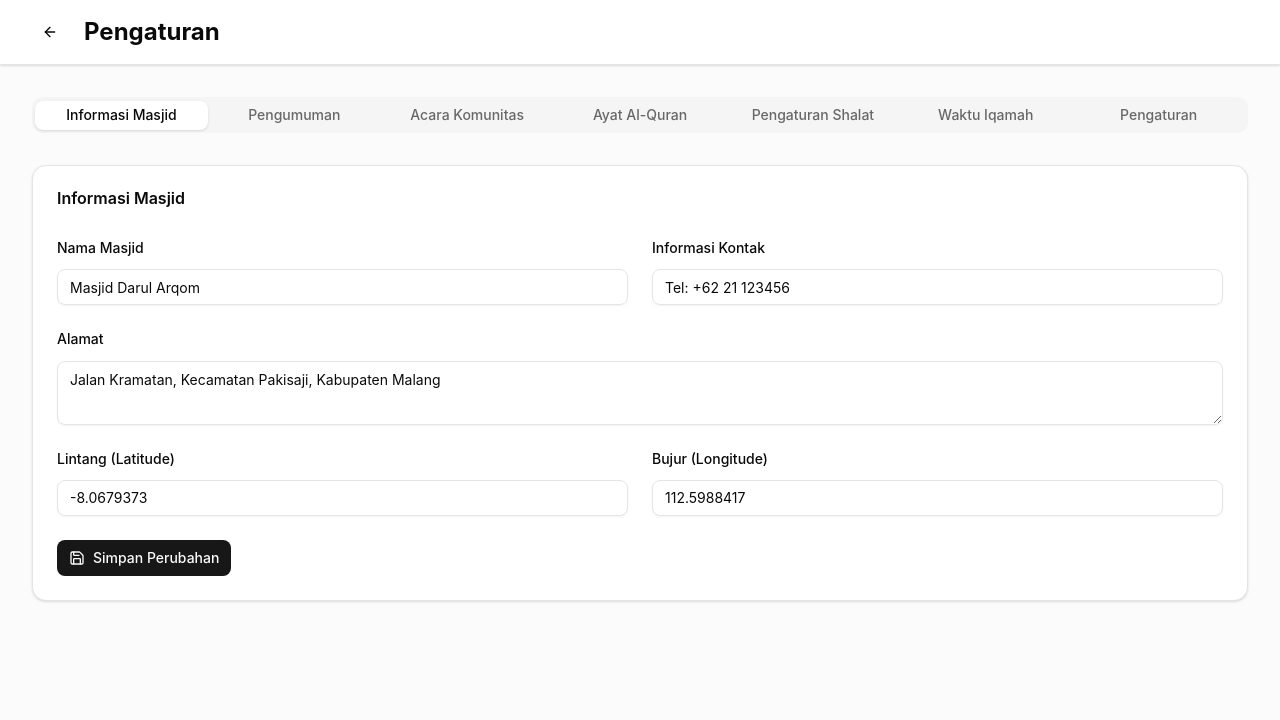
Test case: AdminPanel › switches tabs with accessible tab controls
The width and height of the screenshot is (1280, 720).
Click the tab "Pengaturan Shalat": (813, 115) [726,100,899,130]
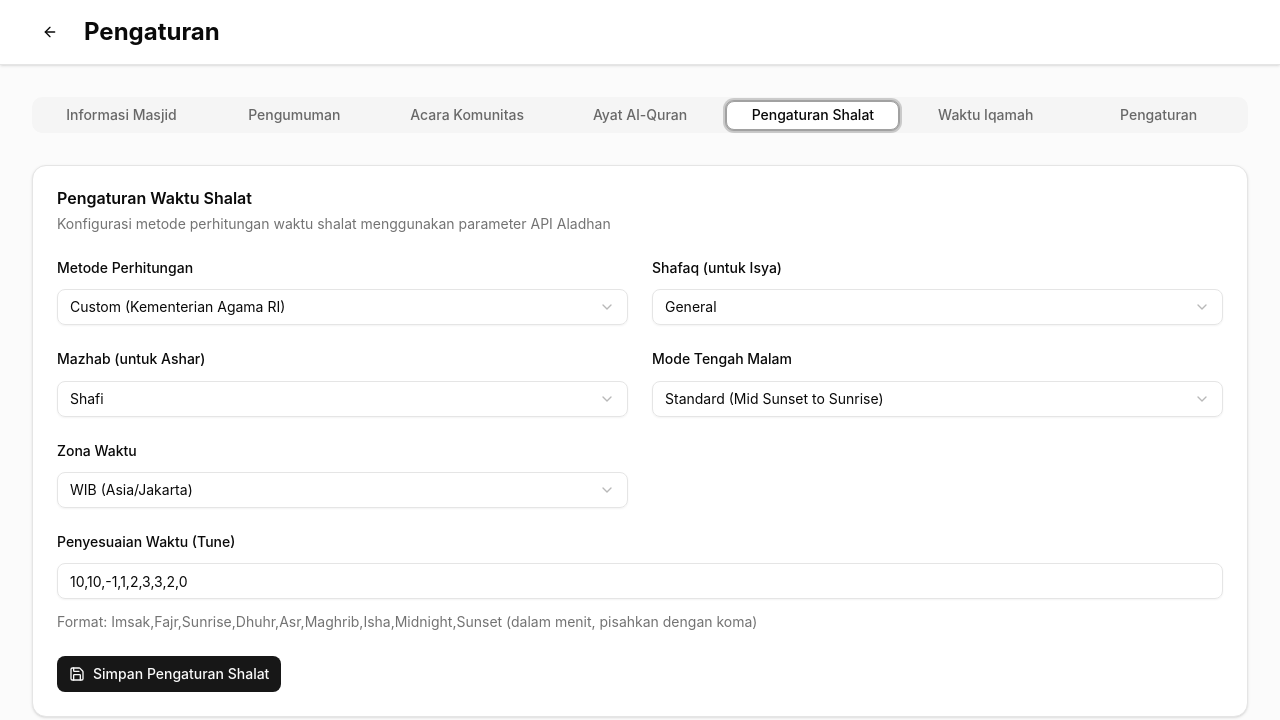
Expected: the text "Konfigurasi metode perhitungan waktu shalat" is shown, [57,215,611,232]
